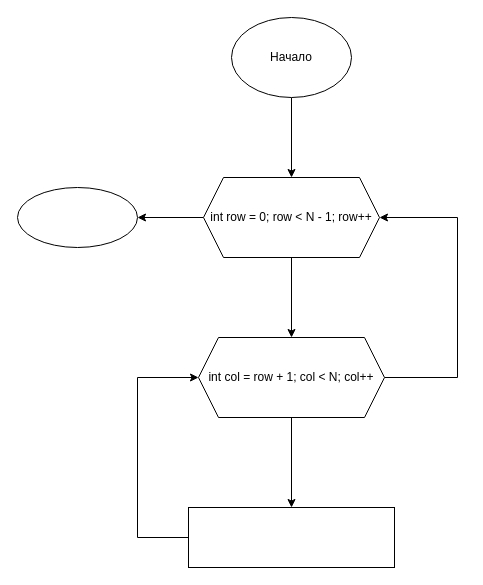
Image size: 483x585. Some labels were removed from this diagram. The shapes that lost their labels are listed below. From the top down, each one's centre as x and y in pixels, then its label:
the point at 77,217: Конец
the point at 291,537: swap(A[col][row], A[row][col]);
